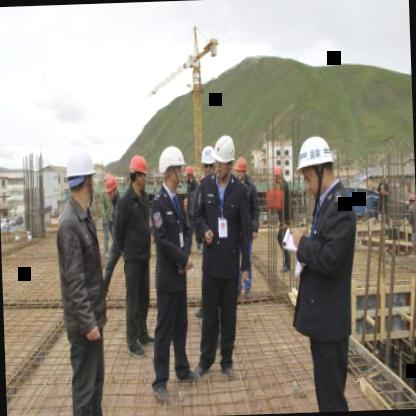helmet: (293, 135, 338, 203), (62, 147, 100, 209), (156, 144, 187, 188), (212, 132, 236, 178), (128, 154, 150, 194), (201, 143, 217, 179), (232, 156, 247, 183), (105, 174, 119, 202), (270, 164, 286, 184), (184, 163, 196, 186)
